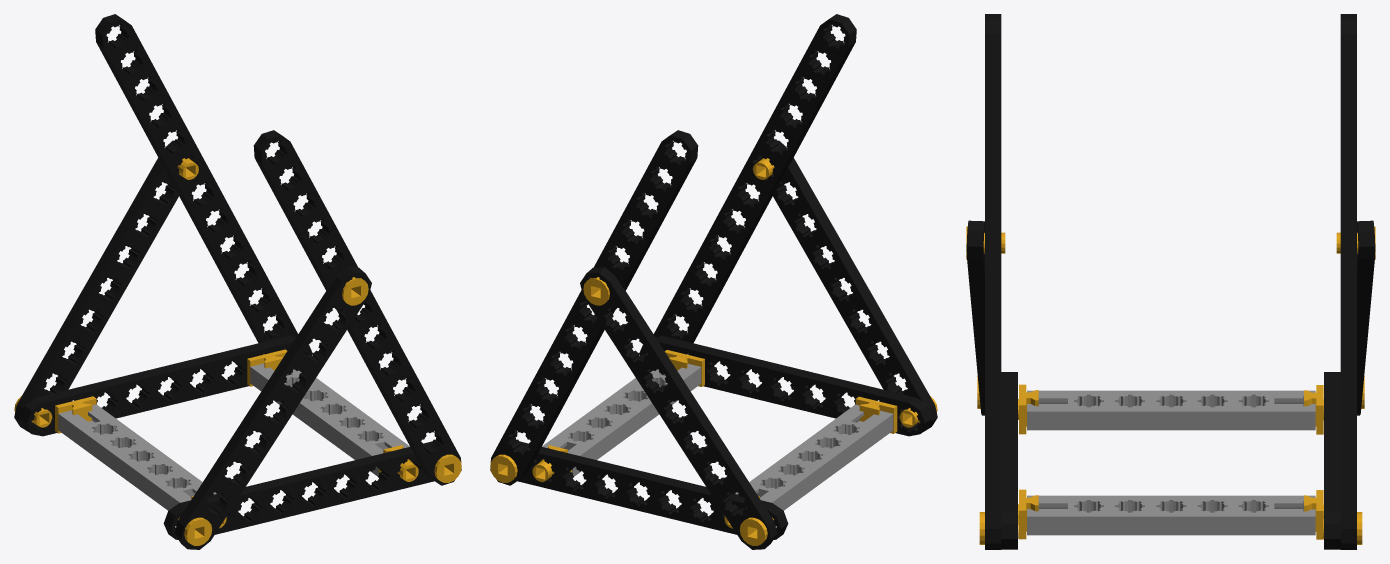
3 views of the same model, side by side, from view 1: azimuth 30°, elevation 25°; view 2: azimuth 150°, elevation 25°; view 3: azimuth 270°, elevation 25° (orthographic). The views are drawn at different scales.
Parts seen in each view (by area): view 1: 1.1_swing-p2; view 2: 1.1_swing-p2; view 3: 1.1_swing-p2.
Part boxes in pixels (box(x1,y1,x2,y2)): 1.1_swing-p2: box(14, 14, 461, 549); 1.1_swing-p2: box(490, 14, 937, 549); 1.1_swing-p2: box(966, 14, 1375, 549).
Bounding box in the file's own units: 0.0898 × 0.1181 × 0.0993.
